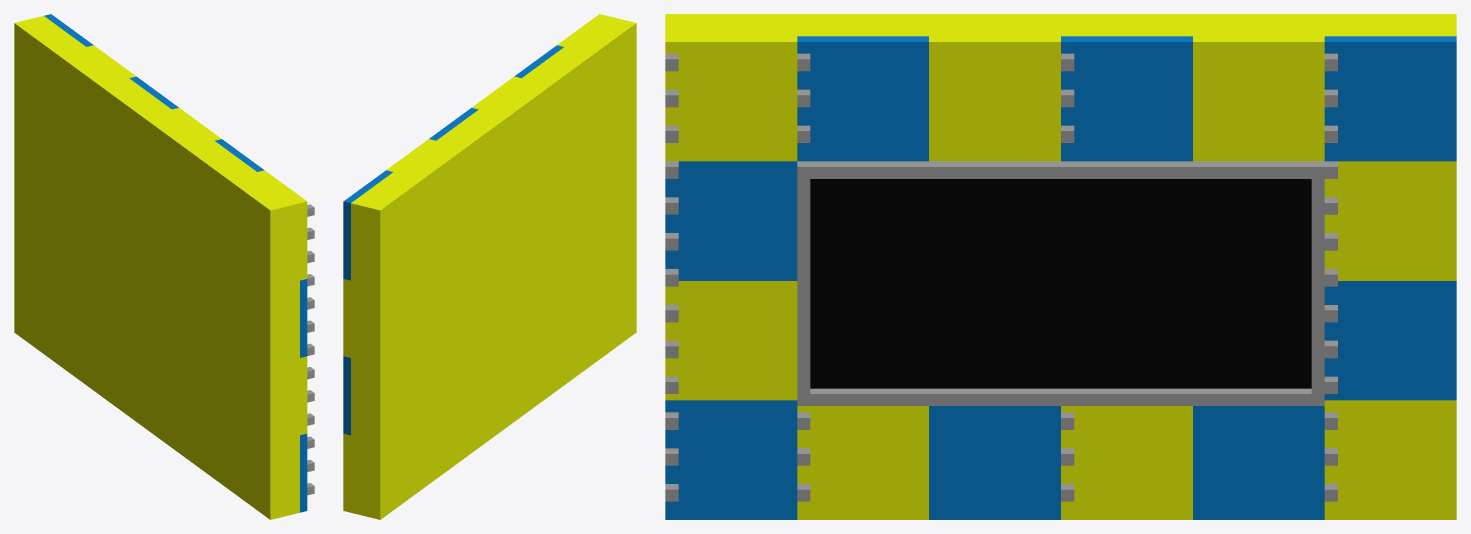
File: Wall1.fbx
The picture shows the model from 3 angles, left to right: view 1: azimuth 30°, elevation 25°; view 2: azimuth 150°, elevation 25°; view 3: azimuth 270°, elevation 25°; orthographic projection. The views are drawn at different scales.
Visible parts, largest first — view 1: Stage_Wall:Mesh; view 2: Stage_Wall:Mesh; view 3: Stage_Wall:Mesh.
Part boxes in pixels (x1=…): Stage_Wall:Mesh: x1=14, y1=14, x2=314, y2=519; Stage_Wall:Mesh: x1=343, y1=14, x2=636, y2=519; Stage_Wall:Mesh: x1=665, y1=14, x2=1456, y2=519.
Size of the model in its own units: 6 by 40 by 60.
1 material, 1 textured.
